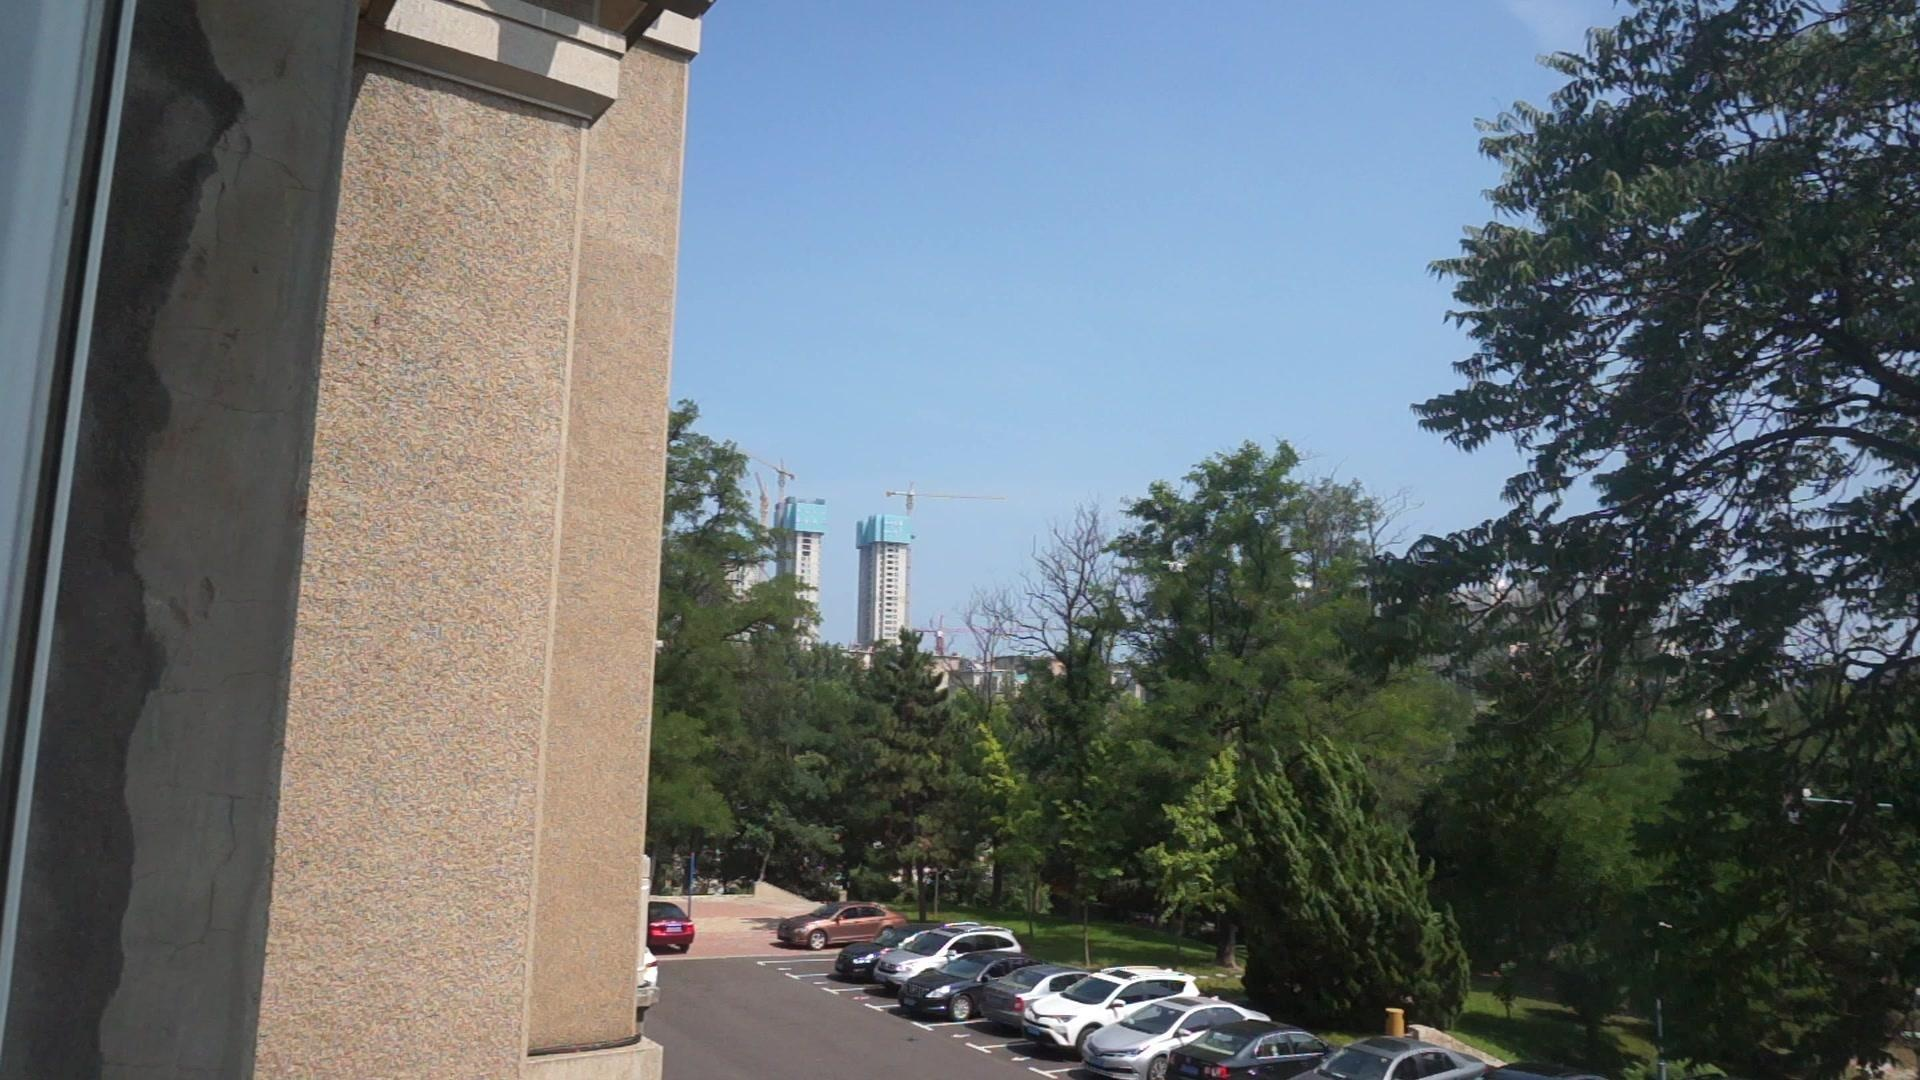UAV: (1162, 560, 1189, 574)
